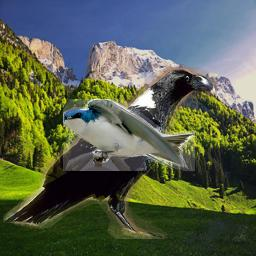Crow: (3, 67, 217, 239)
Swallow: (63, 99, 195, 171)
